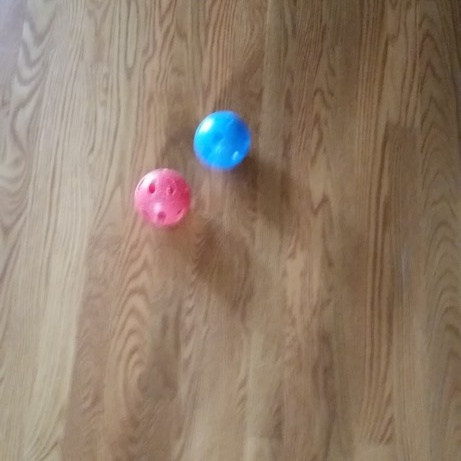ball: (191, 106, 254, 173), (130, 165, 193, 229)
